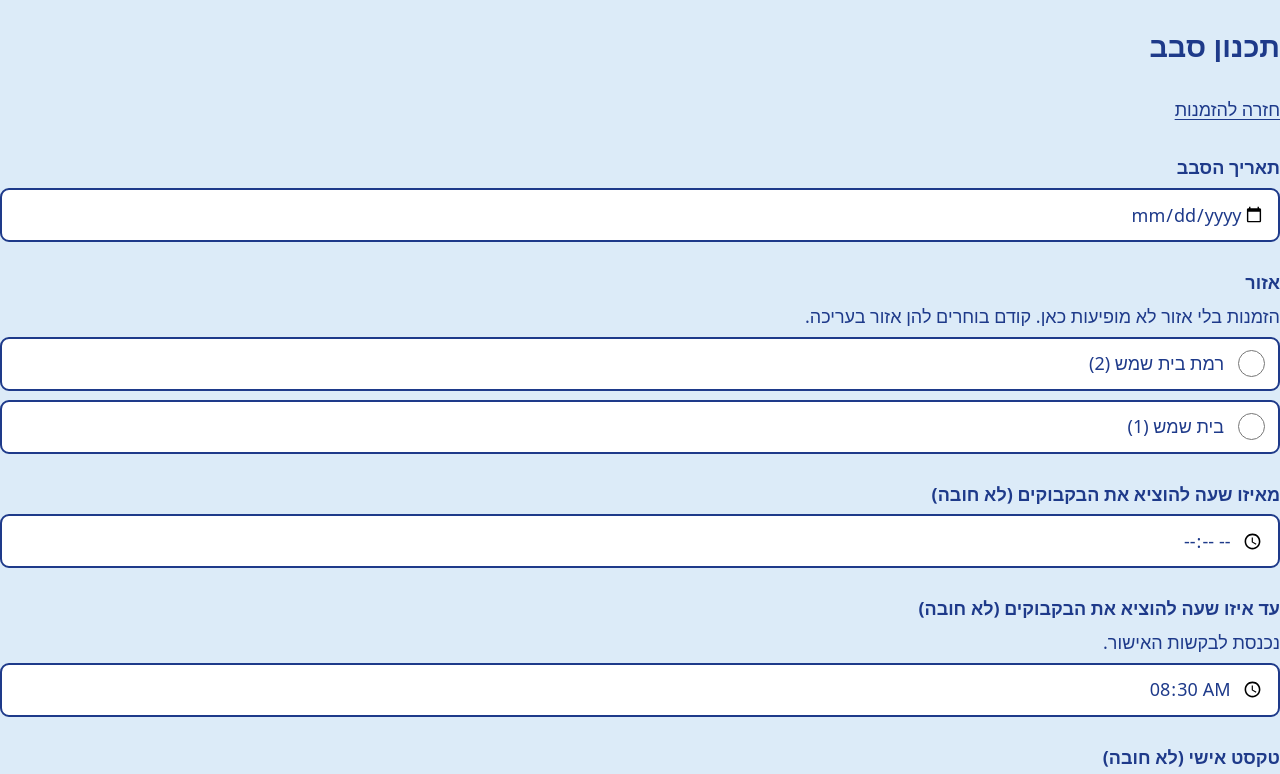
Test: PlanRoundScreen › loaded › counts the marked orders as Yoel unmarks one
The width and height of the screenshot is (1280, 774).
Click the radio button labelled "רמת בית שמש (2)".
click(1251, 364)  # box [1238,350,1264,377]
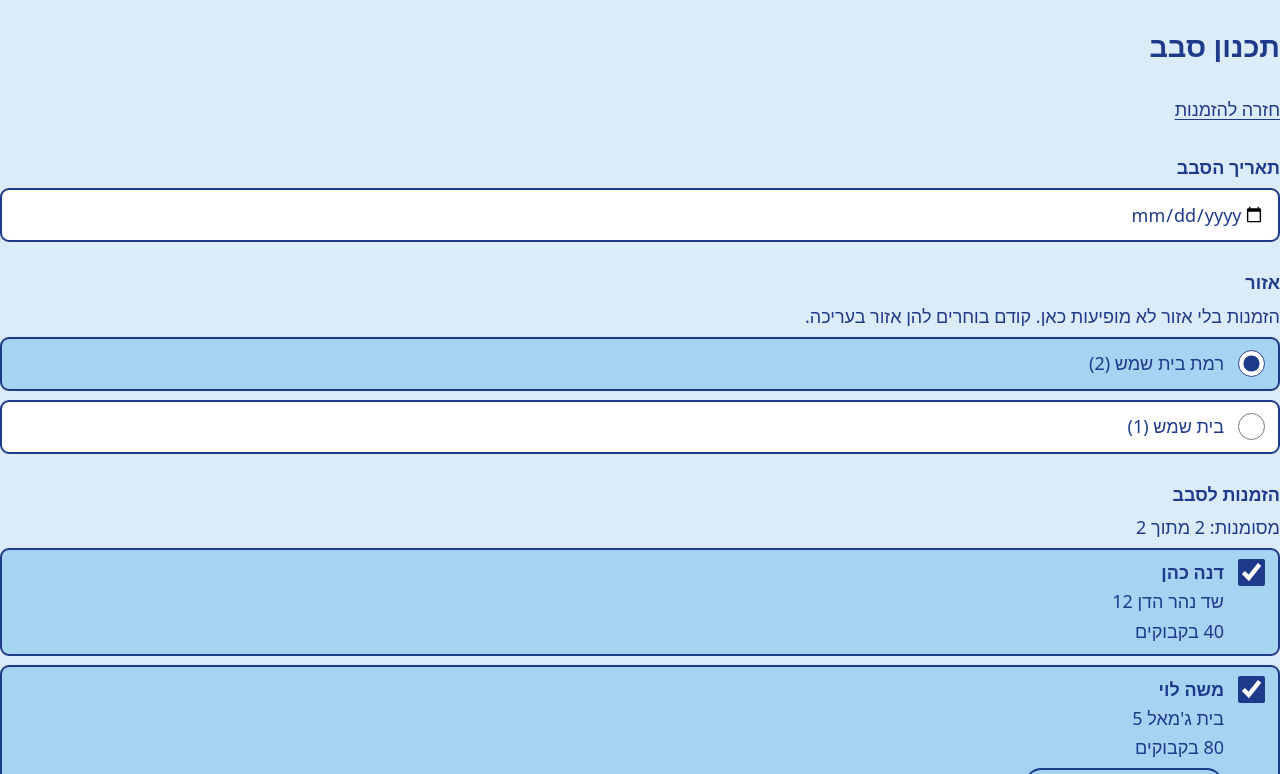
Click the checkbox labelled "דנה כהן".
click(1251, 573)  # box [1238,559,1264,586]
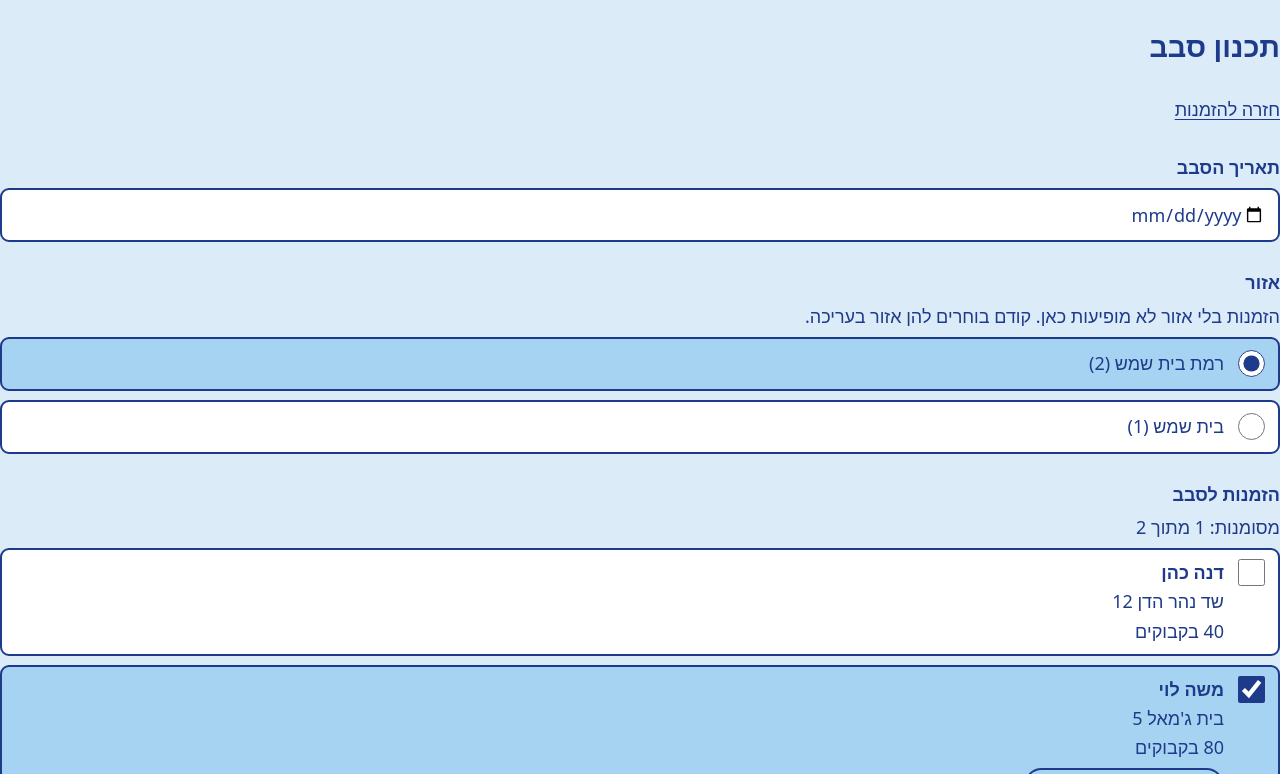
Expected: the text "מסומנות: 1 מתוך 2" is shown, [1136,515,1279,539]
